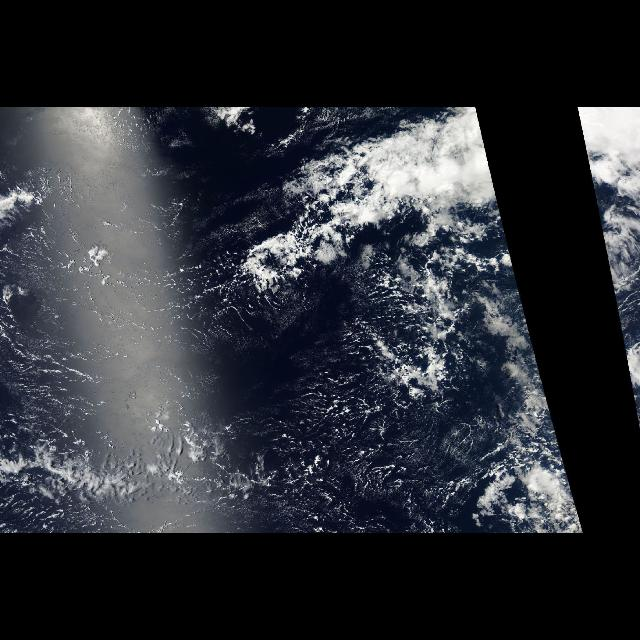Fish: (4, 420, 340, 530)
Gravel: (270, 266, 492, 530), (1, 224, 258, 386)
Sugar: (2, 136, 270, 466)
